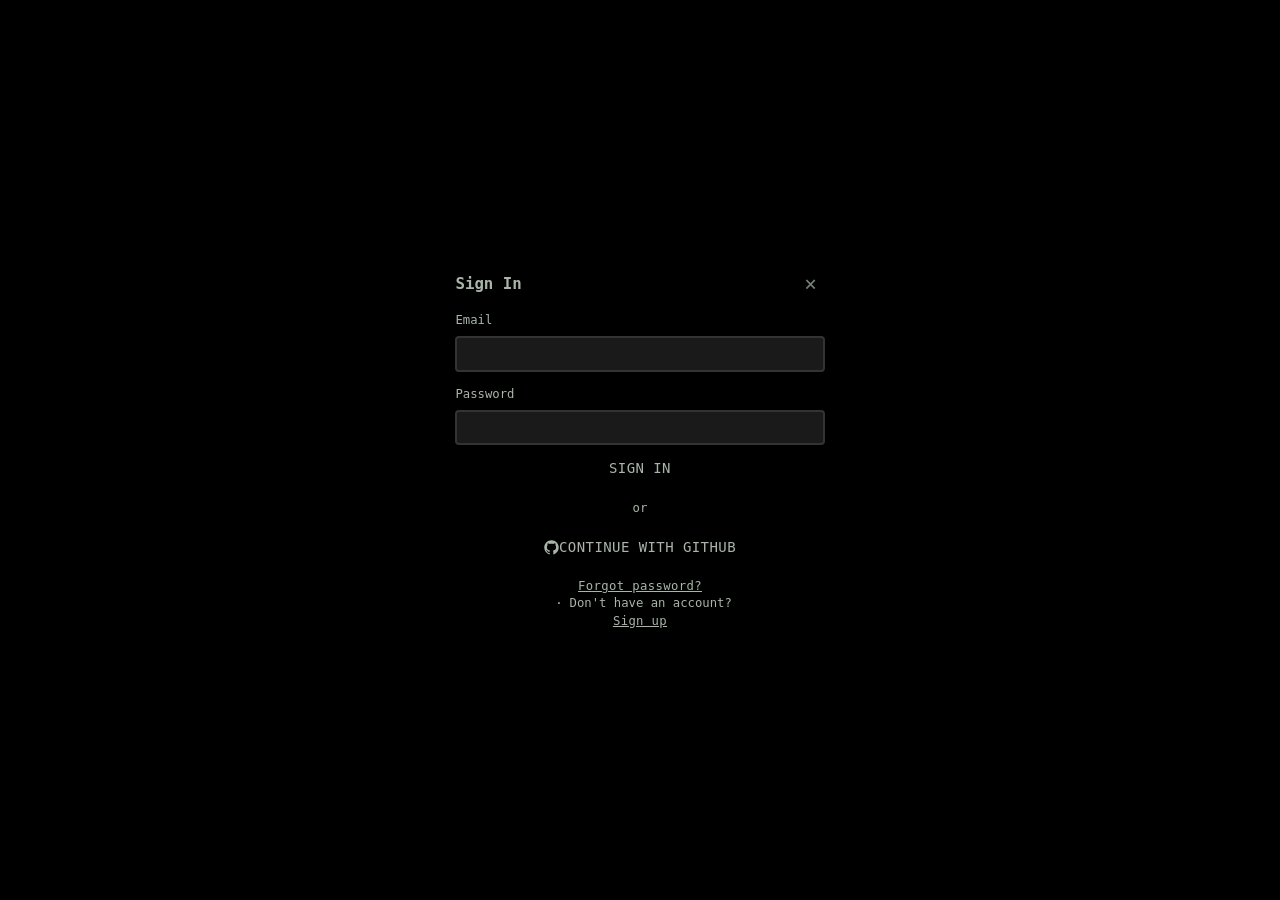
AuthModal › mode switching › clears error when switching modes
Type "test@example.com" into the field labelled "Email" at [640, 354], box top-left (455, 336), bottom-right (824, 372)
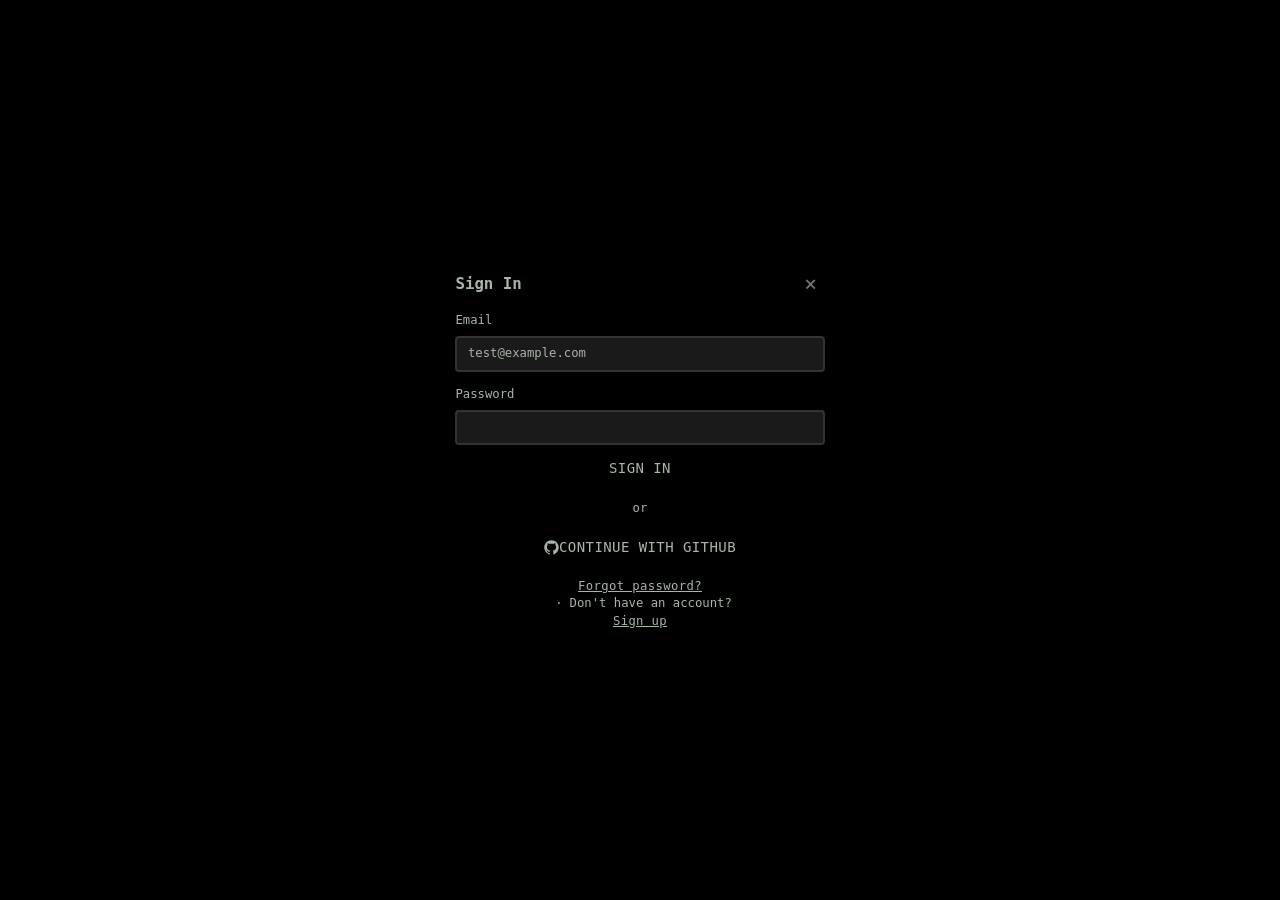
Type "password" into the password field labelled "Password" at [640, 427], box top-left (455, 410), bottom-right (824, 445)
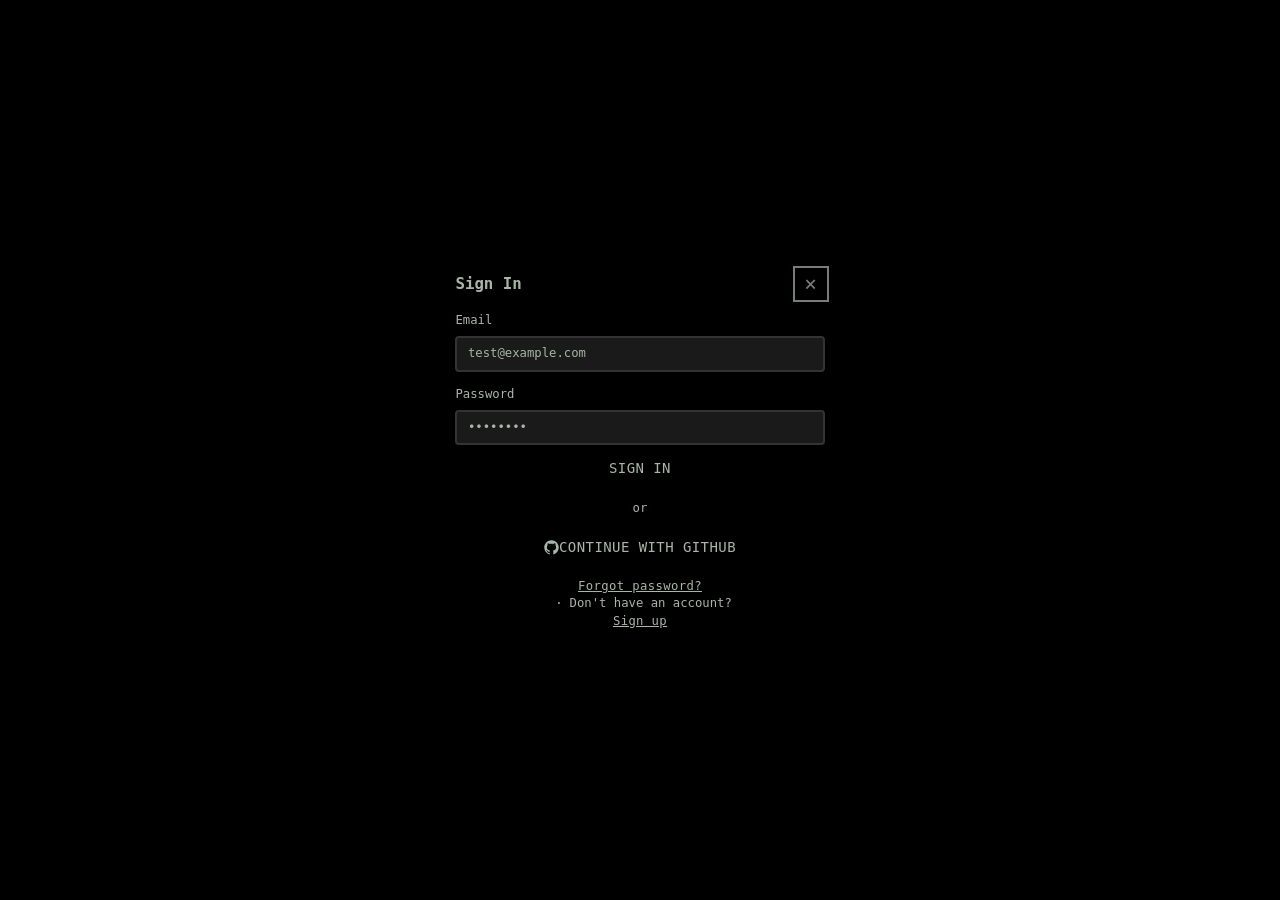
Click the button "Sign In" at [640, 469], box top-left (455, 459), bottom-right (824, 478)
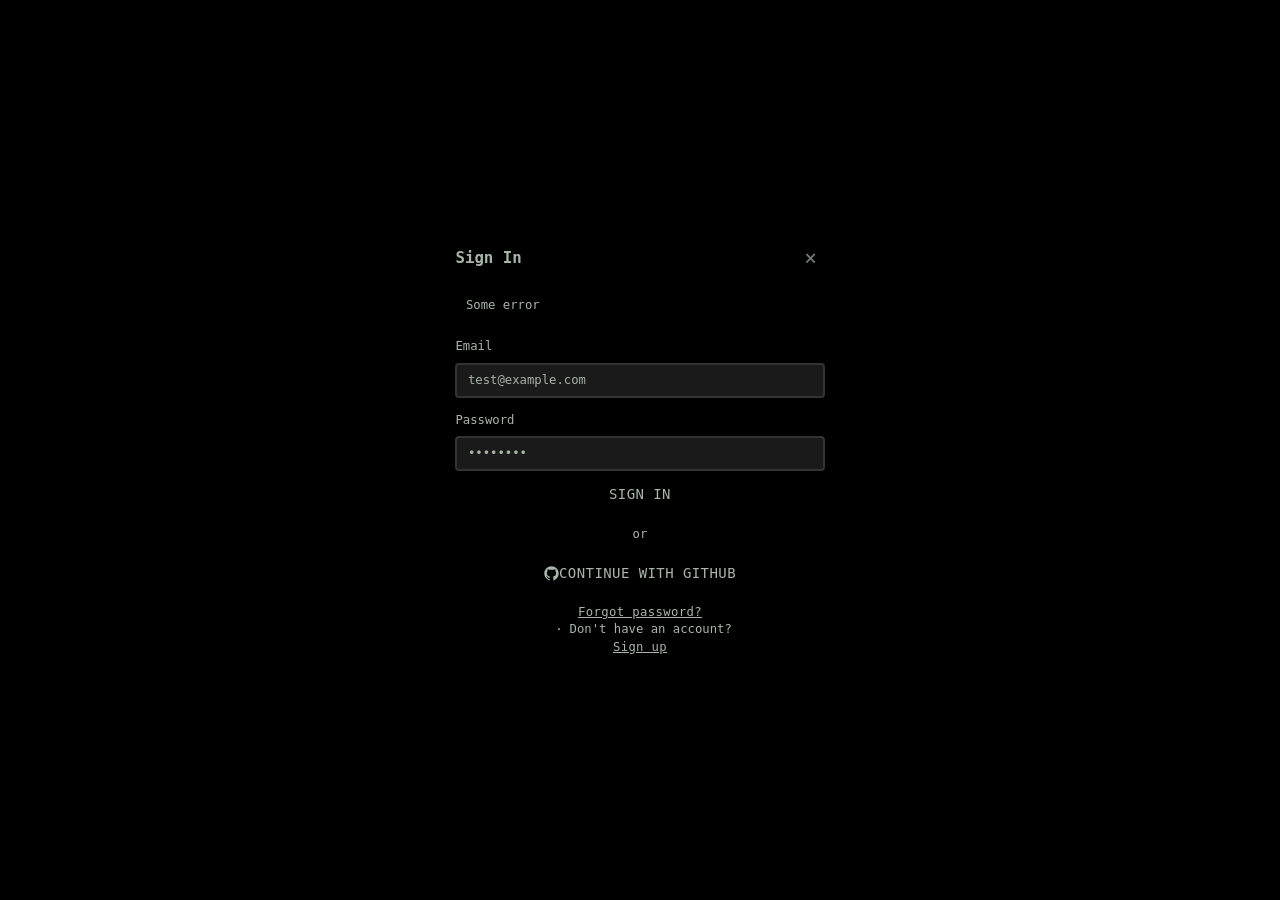
Check: the text "Some error" is shown, box top-left (466, 298), bottom-right (540, 312)
Click the button "Sign up" at [640, 647], box top-left (455, 639), bottom-right (824, 656)
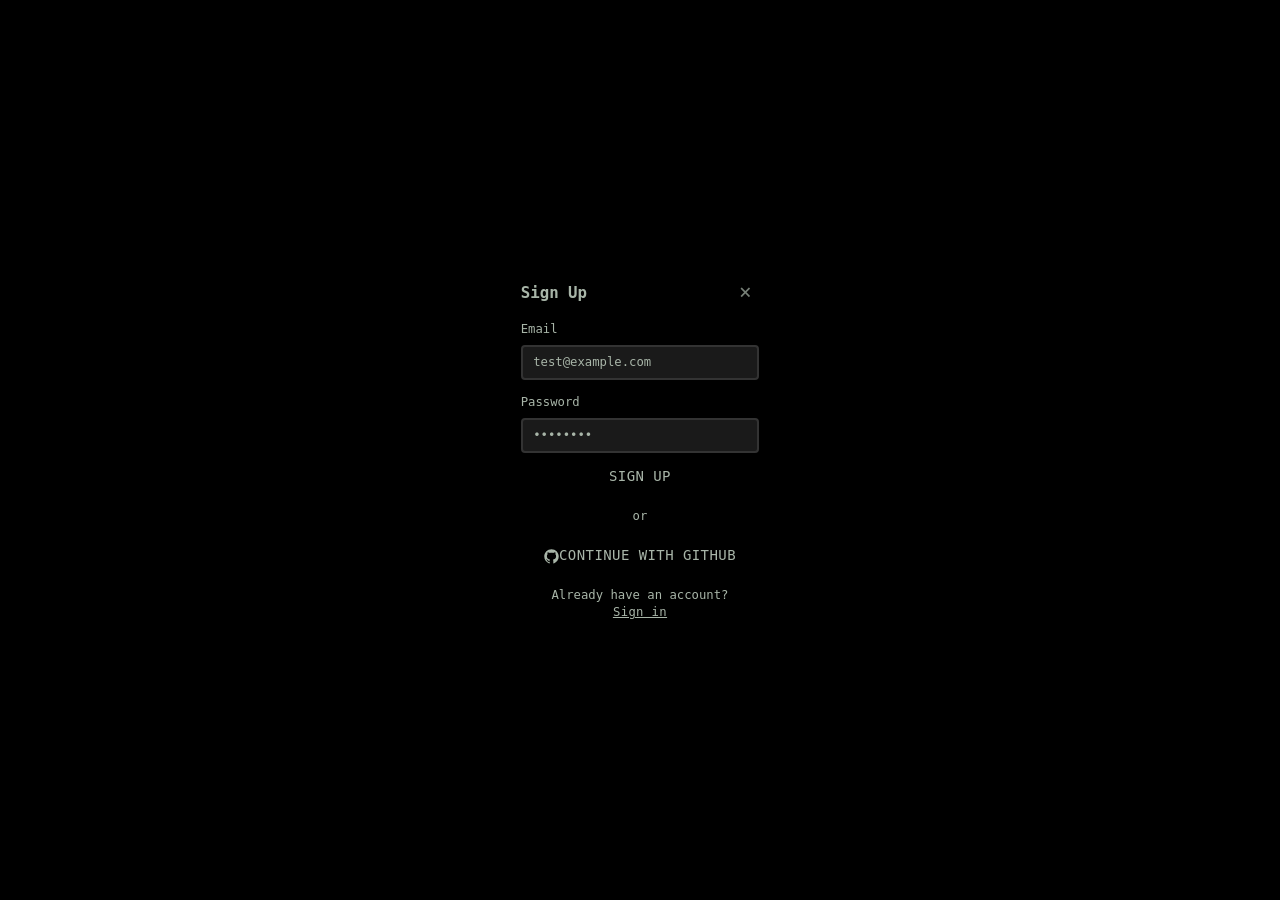
Check: the text "Some error" is gone
